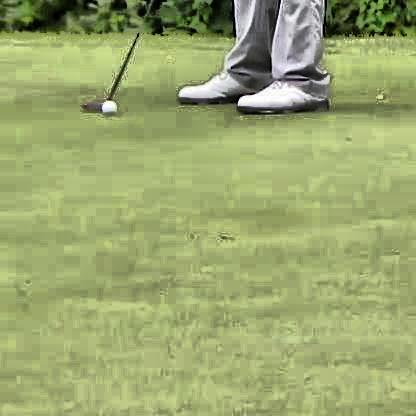golfball: (98, 98, 115, 113)
